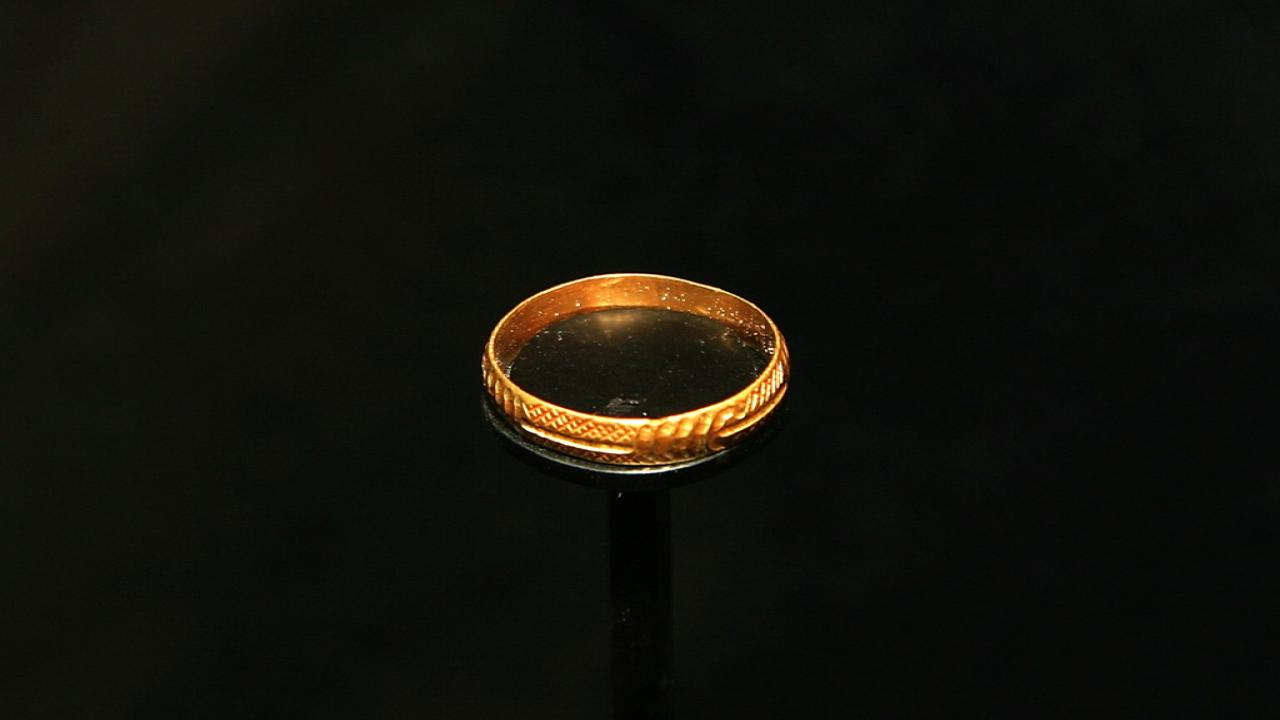ring: (474, 268, 796, 479)
